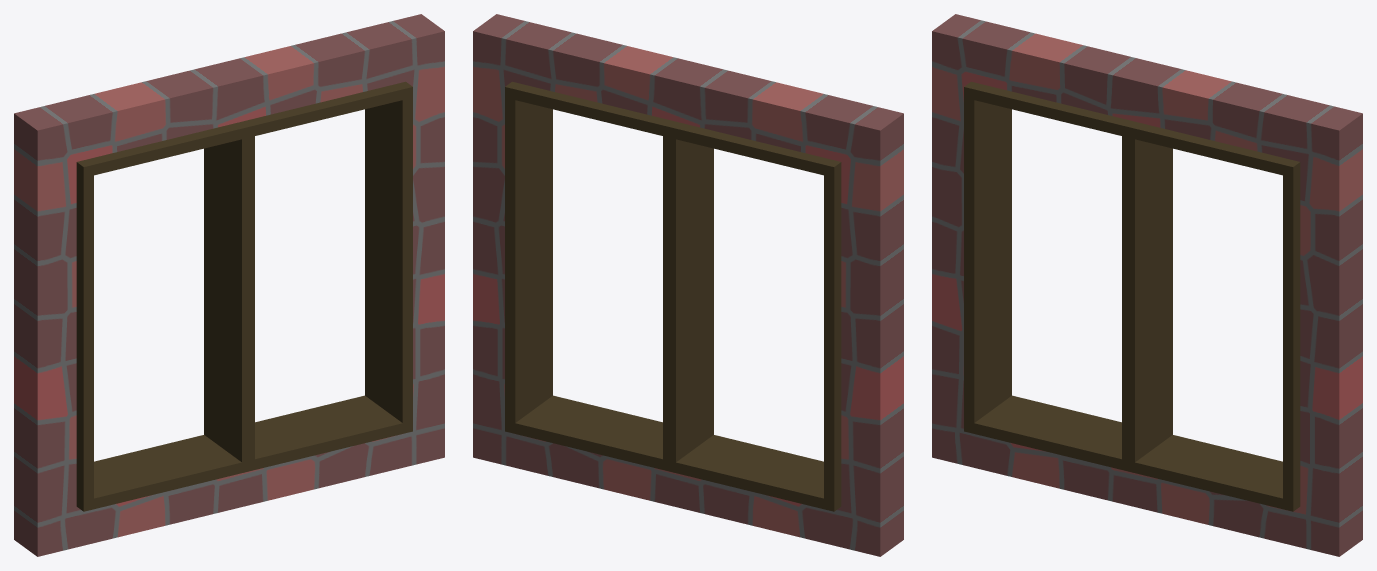
File: 4mWindow.fbx
3 renders of one model, left to right at view 1: azimuth 30°, elevation 25°; view 2: azimuth 150°, elevation 25°; view 3: azimuth 330°, elevation 25°, orthographic.
Visible parts, largest first — view 1: Window; view 2: Window; view 3: Window.
Part boxes in pixels (left/top/right/bottom): Window: left=14, top=14, right=444, bottom=556; Window: left=473, top=14, right=903, bottom=556; Window: left=932, top=14, right=1362, bottom=556.
Bounding box in the file's own units: 400 × 400 × 64.38.
